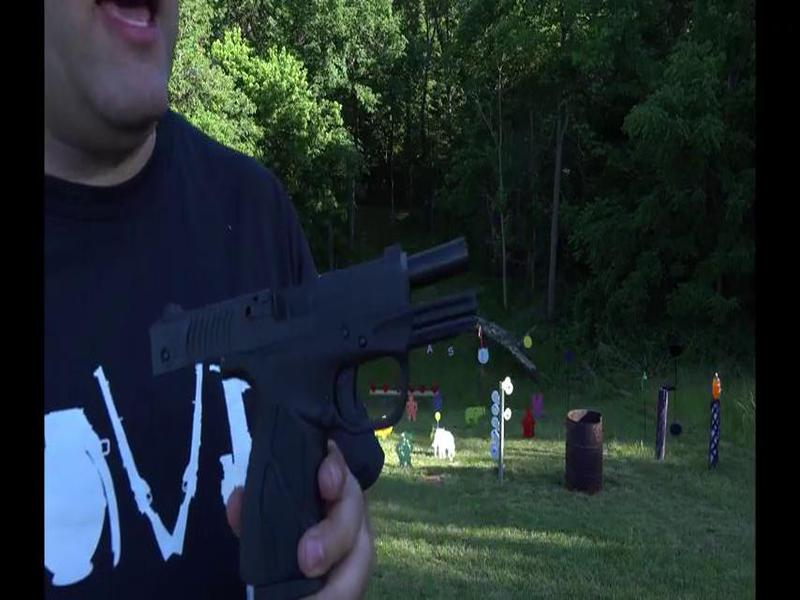Pistola: (138, 228, 504, 597)
